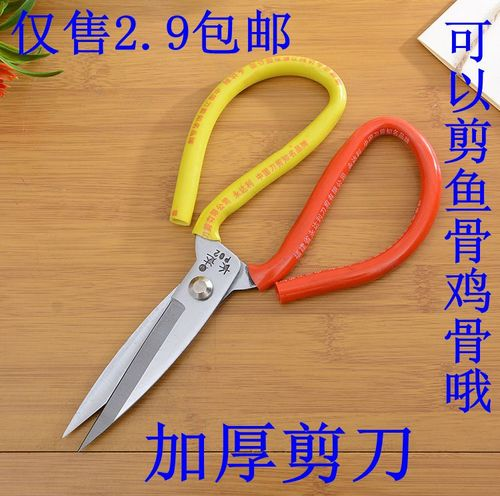scissor: (61, 46, 444, 452)
